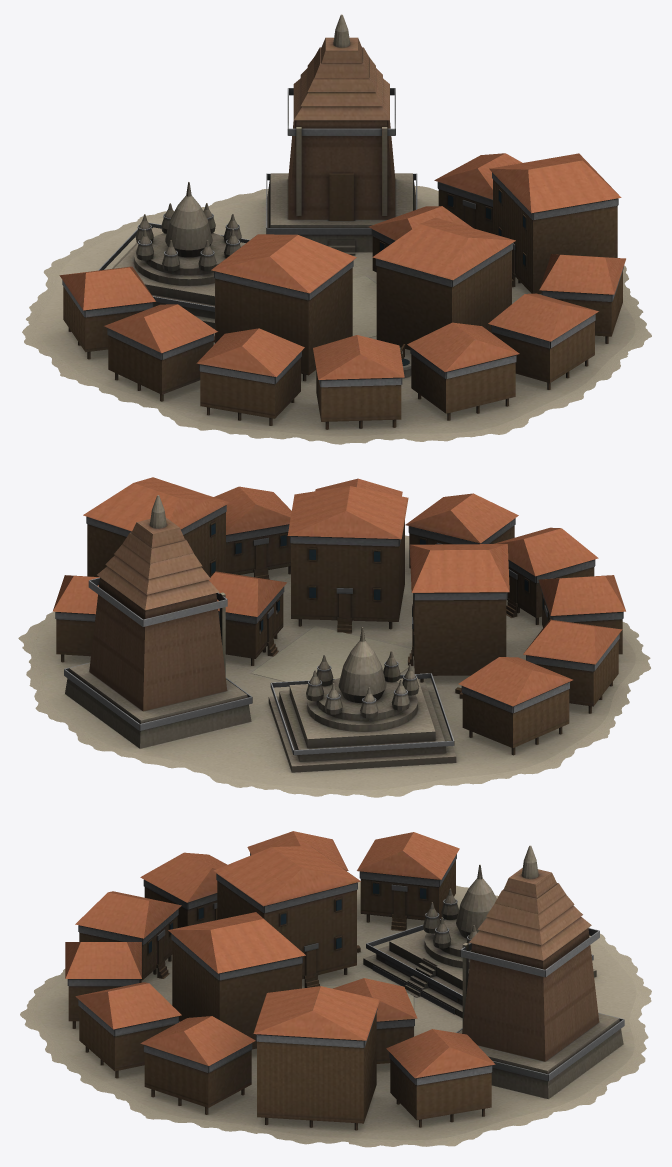
File: classical-town-medium-b-monsoon.glb
3 views of the same model, one above another, from view 1: azimuth 30°, elevation 25°; view 2: azimuth 150°, elevation 25°; view 3: azimuth 270°, elevation 25° (orthographic).
Parts seen in each view (by area): view 1: LOD0; view 2: LOD0; view 3: LOD0.
Boxes of the visible parts, x1,y1,x2,y2 form: LOD0: (22, 14, 651, 444); LOD0: (18, 477, 650, 797); LOD0: (20, 831, 651, 1147).
Size of what is drawn, in the model's own units: 5.97 by 2.2 by 5.97.
Materials: 3 (3 with a texture image).
